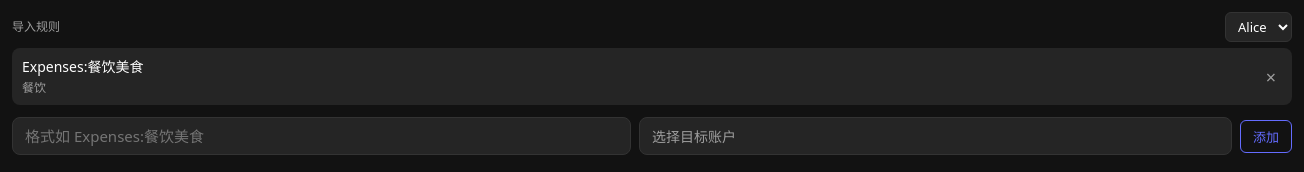
it: ChannelMappingSection › removes a mapping via its delete button
Click the button with class "delete-btn" at [1271, 76], box [1260,66,1282,88]
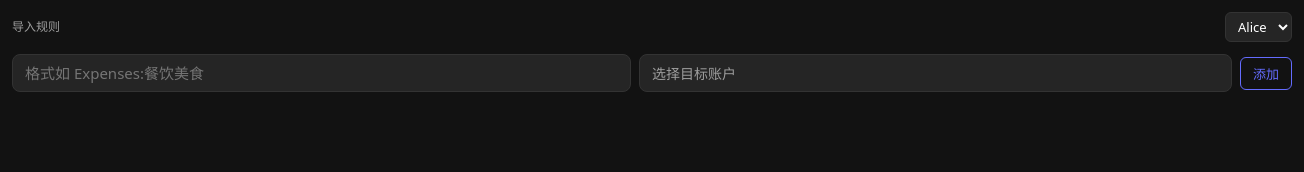
expect the text "Expenses:餐饮美食" is gone: met
